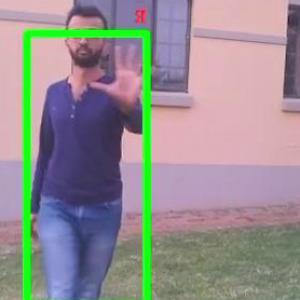follow_hand: (88, 41, 156, 108)
